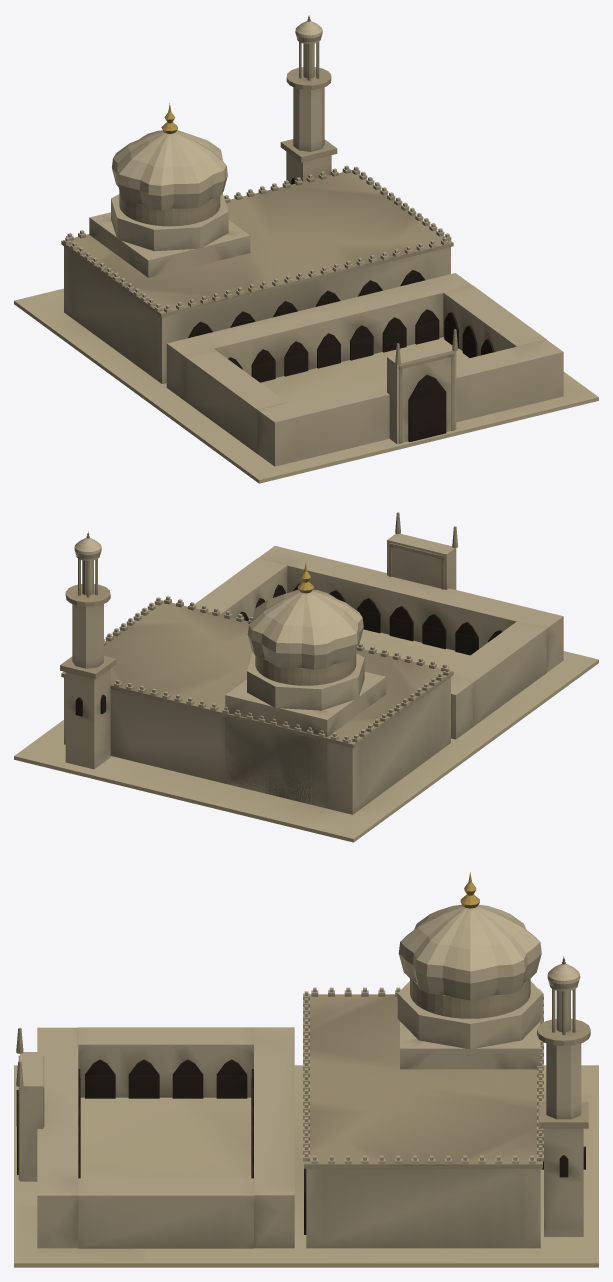
The model's file is al-mursi.glb.
3 renders of one model, top to bottom at view 1: azimuth 30°, elevation 25°; view 2: azimuth 150°, elevation 25°; view 3: azimuth 270°, elevation 25°, orthographic. The views are drawn at different scales.
Parts seen in each view (by area): view 1: p0_court, p1_hall, p2_minaret; view 2: p1_hall, p0_court, p2_minaret; view 3: p0_court, p1_hall, p2_minaret.
Part boxes in pixels (<box>): p0_court: <box>14,273,598,483</box>; p1_hall: <box>61,165,453,383</box>; p2_minaret: <box>112,15,457,443</box>; p1_hall: <box>61,596,453,814</box>; p0_court: <box>14,546,598,842</box>; p2_minaret: <box>60,512,457,769</box>; p0_court: <box>14,1027,598,1267</box>; p1_hall: <box>303,981,543,1248</box>; p2_minaret: <box>16,872,590,1236</box>.
Size of the model in its own units: 40 by 26.14 by 50.
